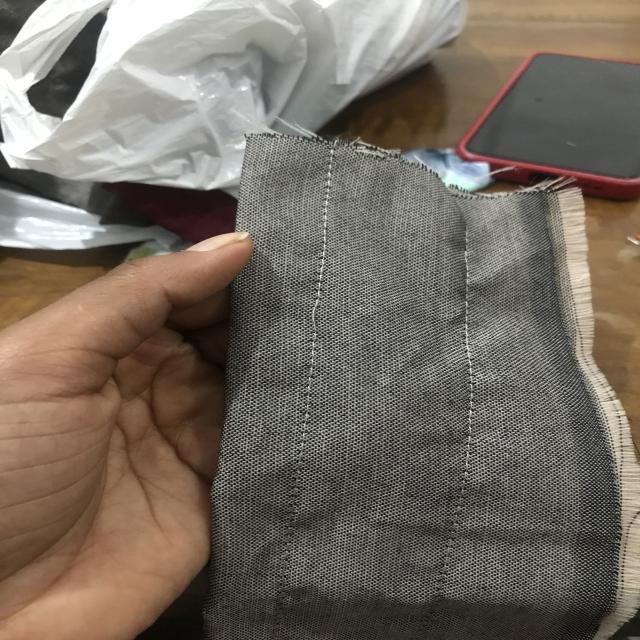skip: (304, 285, 331, 336)
